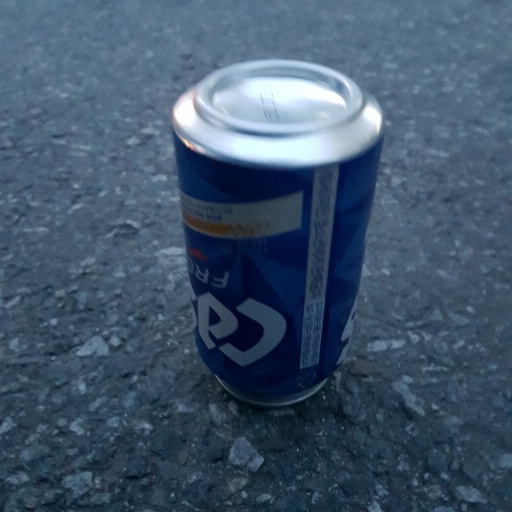Metal_0: (169, 52, 386, 408)
